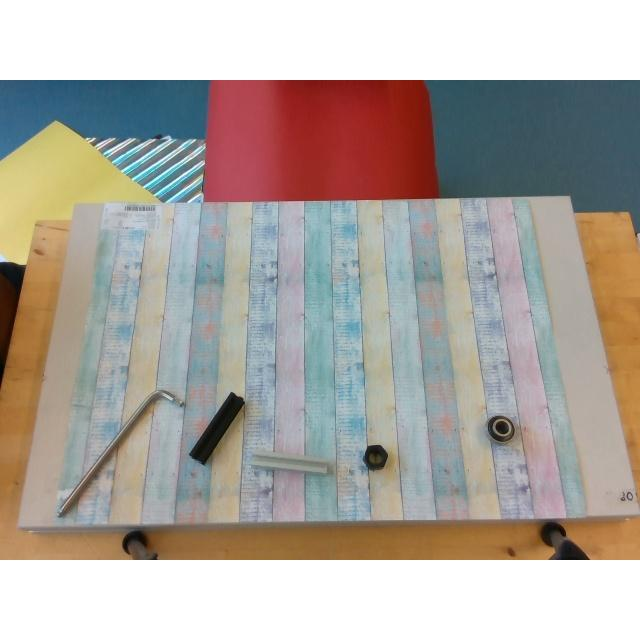AllenKey: (56, 388, 184, 516)
Bearing2: (487, 414, 515, 442)
F20_20_B: (188, 392, 244, 464)
F20_20_G: (252, 452, 334, 472)
M20: (364, 446, 388, 470)
